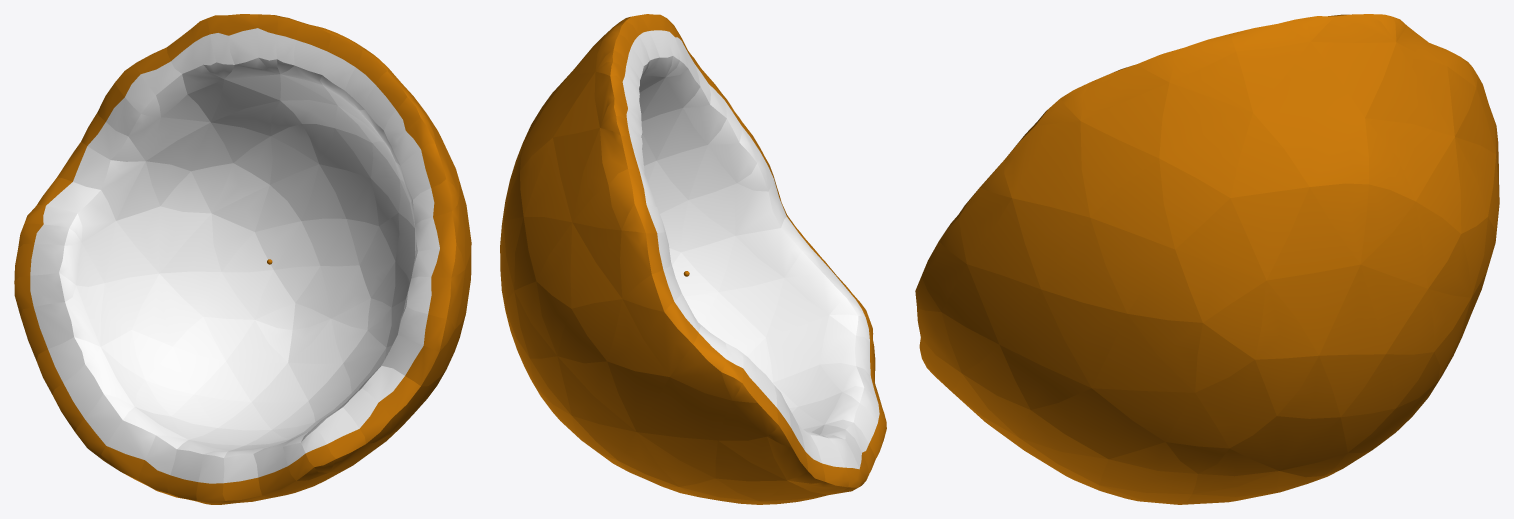
File: 532_coconut.fbx
3 renders of one model, left to right at view 1: azimuth 30°, elevation 25°; view 2: azimuth 150°, elevation 25°; view 3: azimuth 270°, elevation 25°, orthographic. The views are drawn at different scales.
Parts seen in each view (by area): view 1: Coconut; view 2: Coconut; view 3: Coconut.
Part boxes in pixels (<box>): Coconut: <box>14,14,471,504</box>; Coconut: <box>500,14,886,504</box>; Coconut: <box>915,14,1499,504</box>.
Size of the model in its own units: 36.63 by 42.45 by 43.59.
